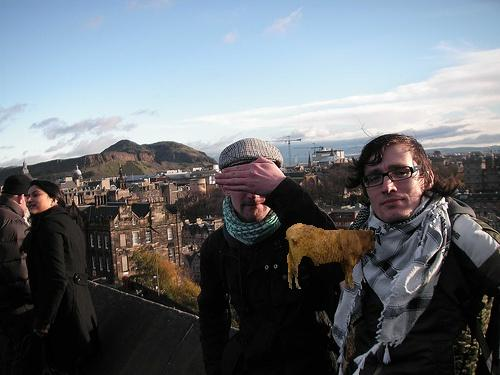tampered: (287, 224, 375, 289)
